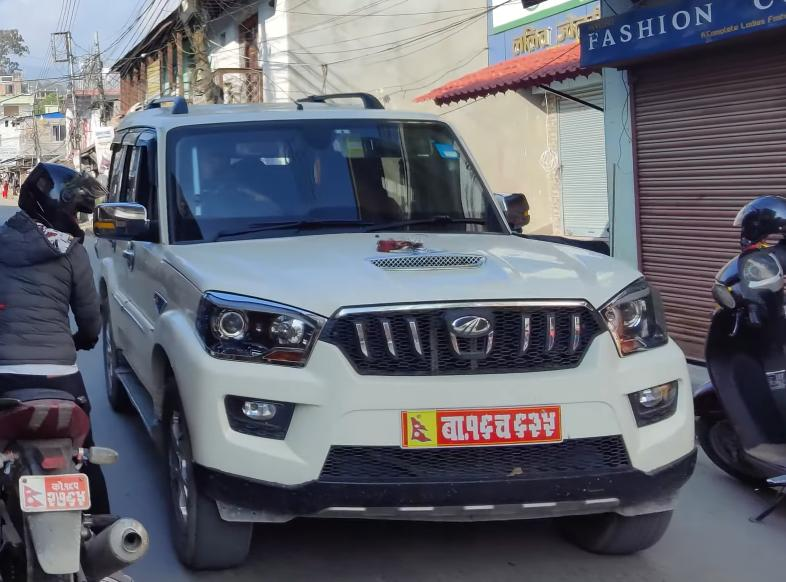SUV: (90, 85, 698, 572)
scooter: (691, 227, 786, 526)
